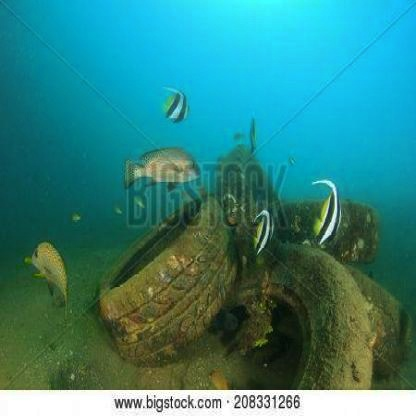tire: (184, 239, 374, 390), (96, 191, 232, 352), (266, 180, 383, 262), (345, 254, 416, 370), (208, 143, 276, 264)
